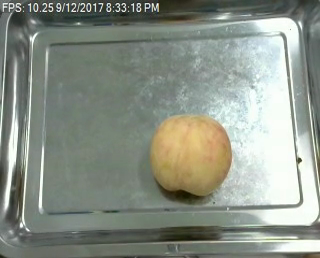Peach: (150, 113, 232, 196)
